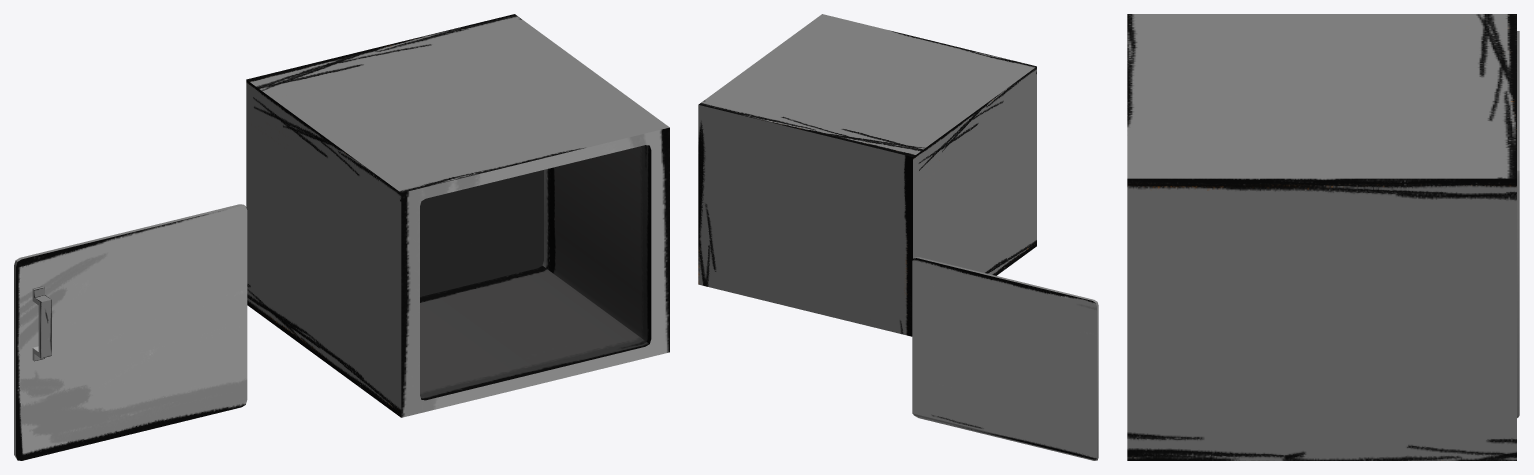
File: SM_Cabinet02.fbx
The picture shows the model from 3 angles, left to right: view 1: azimuth 30°, elevation 25°; view 2: azimuth 150°, elevation 25°; view 3: azimuth 270°, elevation 25°; orthographic projection. The views are drawn at different scales.
Parts seen in each view (by area): view 1: Cabinet, Cabinet_Door; view 2: Cabinet, Cabinet_Door; view 3: Cabinet, Cabinet_Door.
Boxes of the visible parts, x1,y1,x2,y2 form: Cabinet: (246,14,669,417); Cabinet_Door: (14,204,247,460); Cabinet: (698,14,1036,336); Cabinet_Door: (912,257,1098,460); Cabinet: (1127,14,1516,460); Cabinet_Door: (1517,31,1519,417).
Size of the model in its own units: 140 by 86.9 by 75.5.
